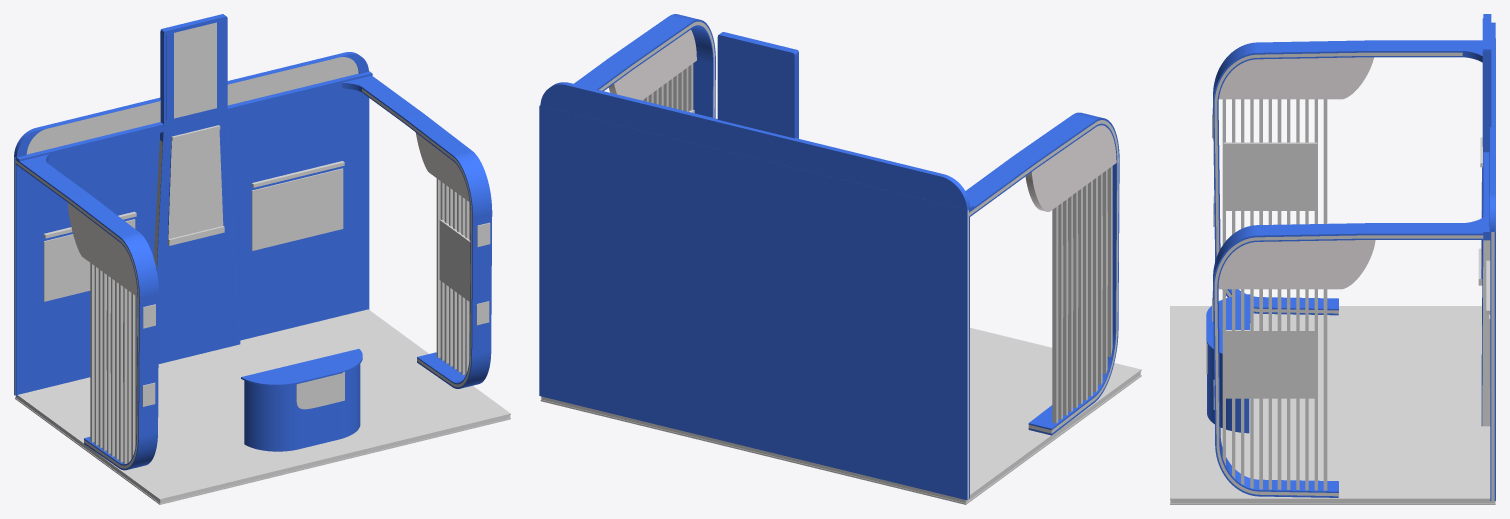
The model's file is shop.fbx.
3 views of the same model, side by side, from view 1: azimuth 30°, elevation 25°; view 2: azimuth 150°, elevation 25°; view 3: azimuth 270°, elevation 25° (orthographic). The views are drawn at different scales.
Visible parts, largest first — view 1: wall, GROUND, style, TABLE, light, P3, P9, P2, P1, P7, P4, P6 (+2 smaller); view 2: wall, style, GROUND, light, P7, P8; view 3: GROUND, wall, style, light, P8, P5, P7, P6, TABLE.
Part boxes in pixels (x1=…): wall: x1=14, y1=14, x2=492, y2=470; GROUND: x1=15, y1=309, x2=510, y2=504; style: x1=90, y1=178, x2=470, y2=463; TABLE: x1=241, y1=349, x2=362, y2=451; light: x1=15, y1=89, x2=510, y2=503; P3: x1=251, y1=168, x2=343, y2=250; P9: x1=26, y1=57, x2=358, y2=154; P2: x1=168, y1=129, x2=223, y2=239; P1: x1=174, y1=22, x2=216, y2=118; P7: x1=67, y1=202, x2=137, y2=296; P4: x1=43, y1=219, x2=135, y2=301; P6: x1=439, y1=219, x2=470, y2=301; wall: x1=539, y1=14, x2=1119, y2=500; style: x1=642, y1=63, x2=1112, y2=423; GROUND: x1=540, y1=327, x2=1141, y2=504; light: x1=541, y1=21, x2=1140, y2=502; P7: x1=1025, y1=125, x2=1116, y2=211; P8: x1=609, y1=30, x2=696, y2=100; GROUND: x1=1170, y1=306, x2=1495, y2=504; wall: x1=1213, y1=14, x2=1495, y2=500; style: x1=1222, y1=99, x2=1327, y2=490; light: x1=1170, y1=52, x2=1495, y2=503; P8: x1=1218, y1=240, x2=1375, y2=289; P5: x1=1223, y1=142, x2=1317, y2=210; P7: x1=1219, y1=57, x2=1373, y2=99; P6: x1=1226, y1=330, x2=1314, y2=398; TABLE: x1=1206, y1=294, x2=1250, y2=433.
Size of the model in its own units: 3198 by 2911 by 2275.
